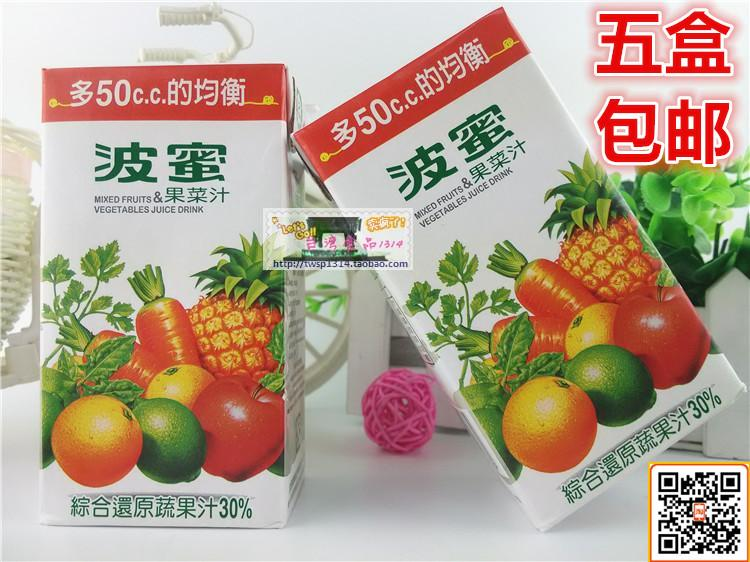vegetables juice: (291, 2, 750, 548), (28, 50, 301, 528)
